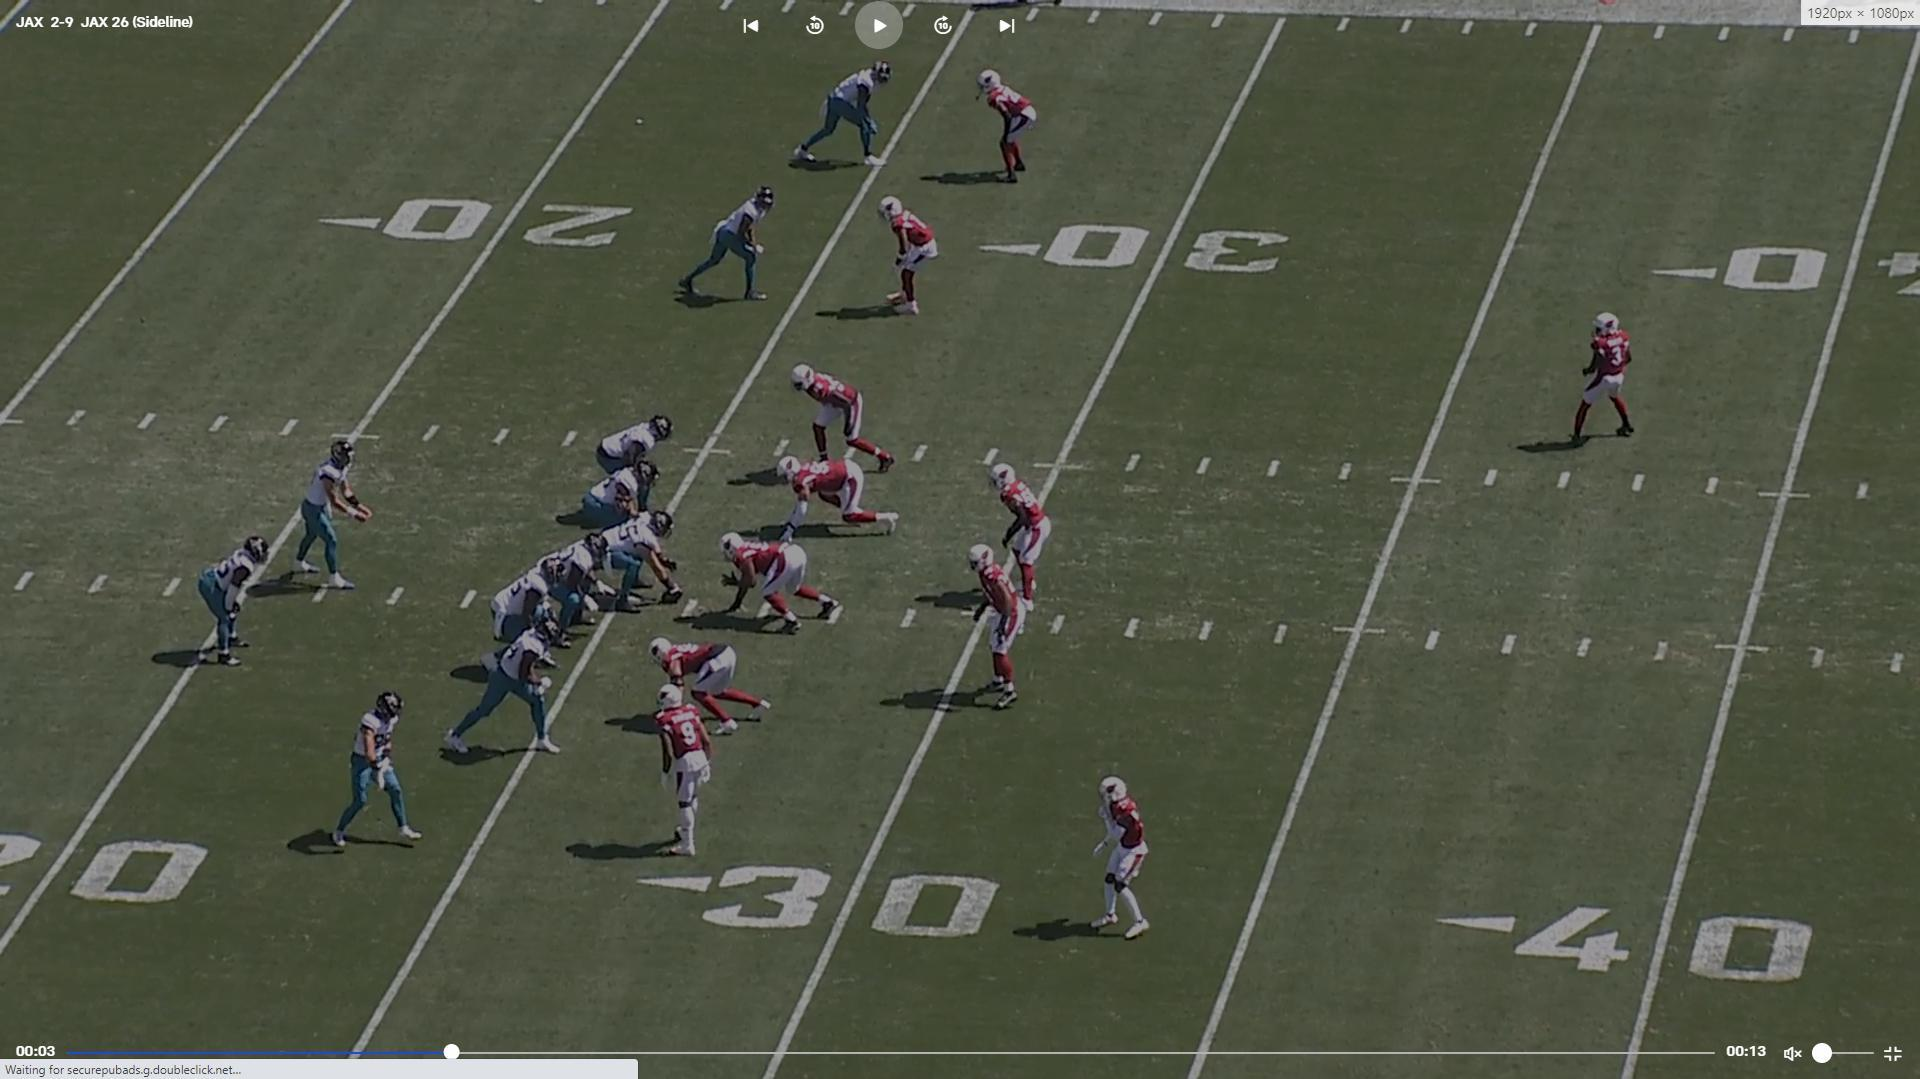player: (443, 616, 570, 771), (324, 684, 422, 864), (673, 181, 782, 307), (284, 437, 367, 602), (714, 533, 841, 640), (647, 633, 780, 734), (788, 358, 900, 473), (790, 51, 897, 168), (1084, 766, 1154, 943), (480, 549, 574, 674), (192, 533, 274, 676), (1559, 304, 1639, 449), (775, 449, 901, 539), (593, 510, 688, 622), (653, 687, 713, 861), (976, 544, 1035, 714), (991, 457, 1055, 613), (534, 533, 610, 645), (880, 193, 942, 320), (566, 463, 664, 538), (980, 66, 1041, 185), (589, 410, 678, 486)
